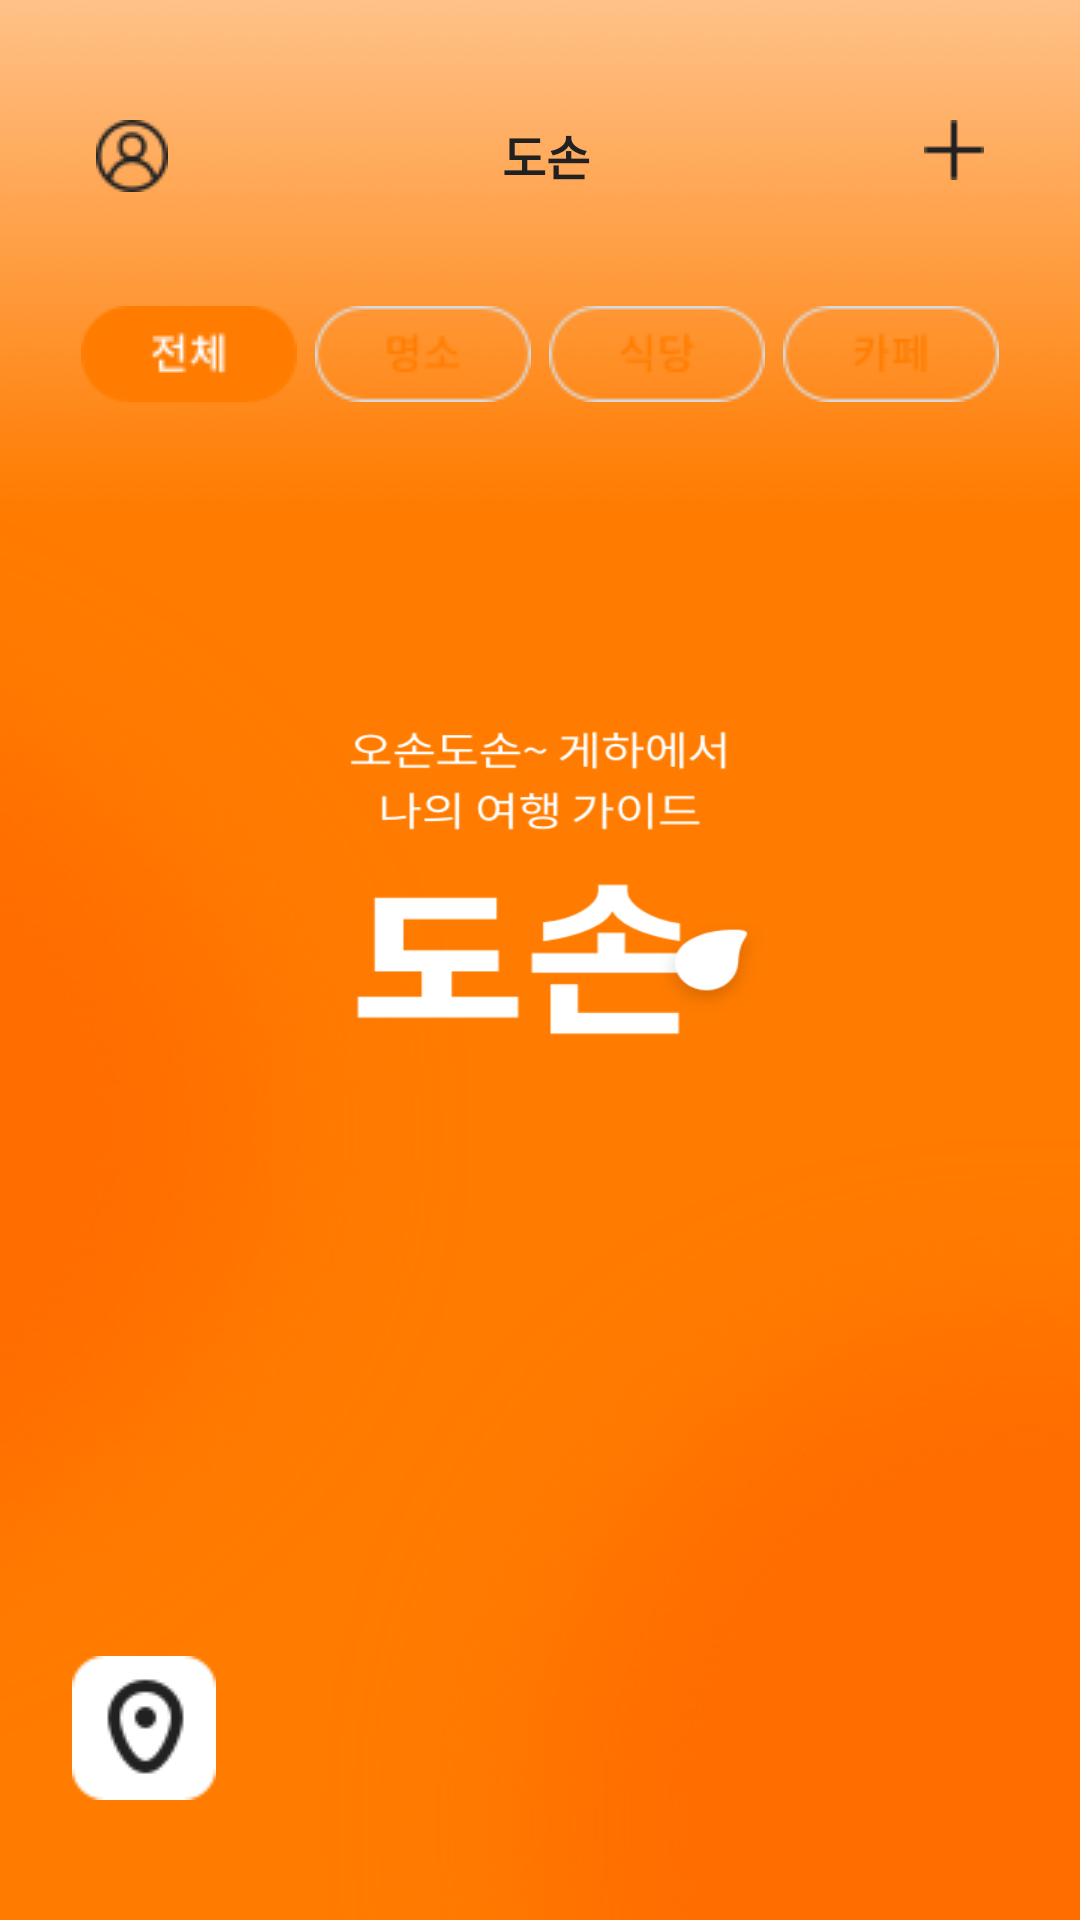

Locate icon controls on the screen. Image size 1080×1920, boxes as (left=x1, top=y1, right=x2, bottom=y2).
location: (left=72, top=1656, right=216, bottom=1800)
plus: (left=924, top=120, right=984, bottom=180)
profile: (left=96, top=120, right=168, bottom=192)
